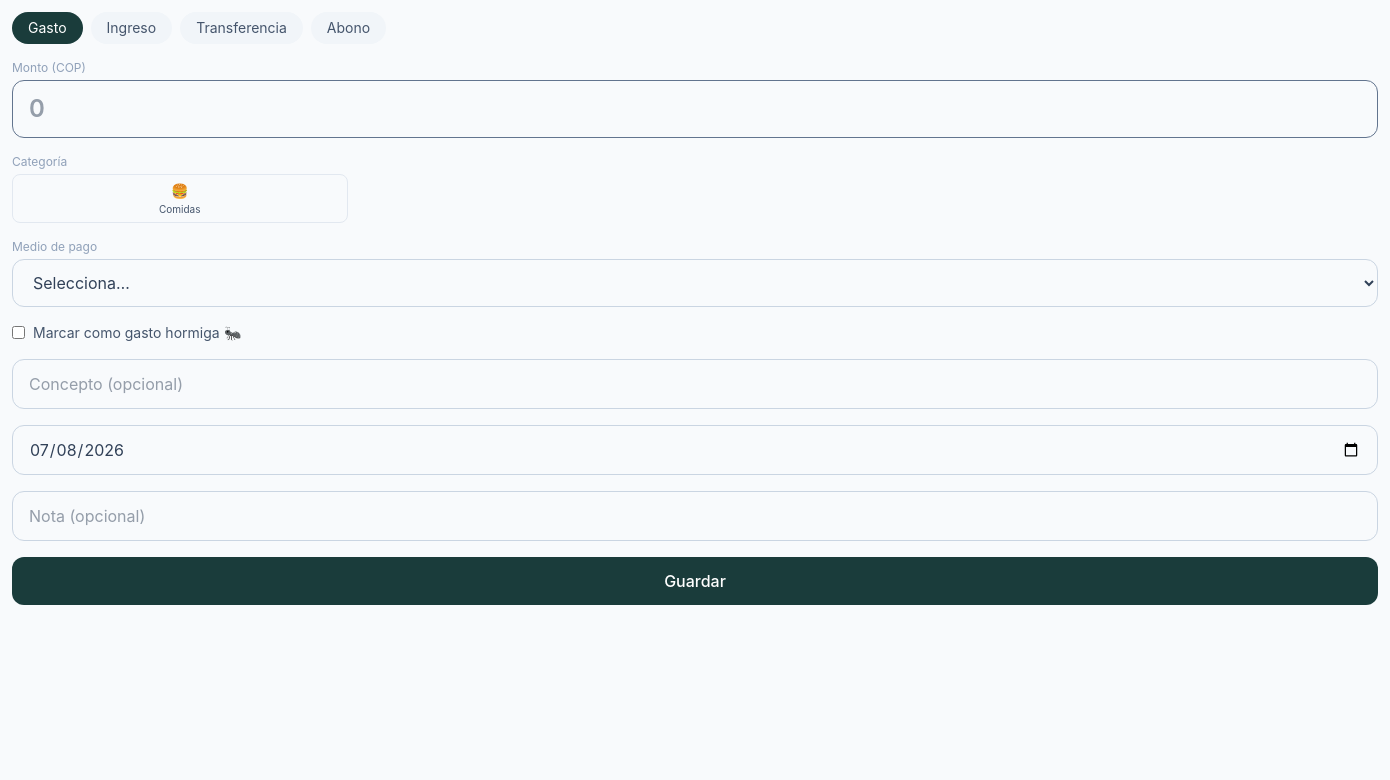
TransactionForm › rechaza un gasto sin categoría con mensaje visible y NO guarda (§11)
The image size is (1390, 780).
Type "10000" into the field with placeholder "0" at [695, 109], box [12, 80, 1378, 138]
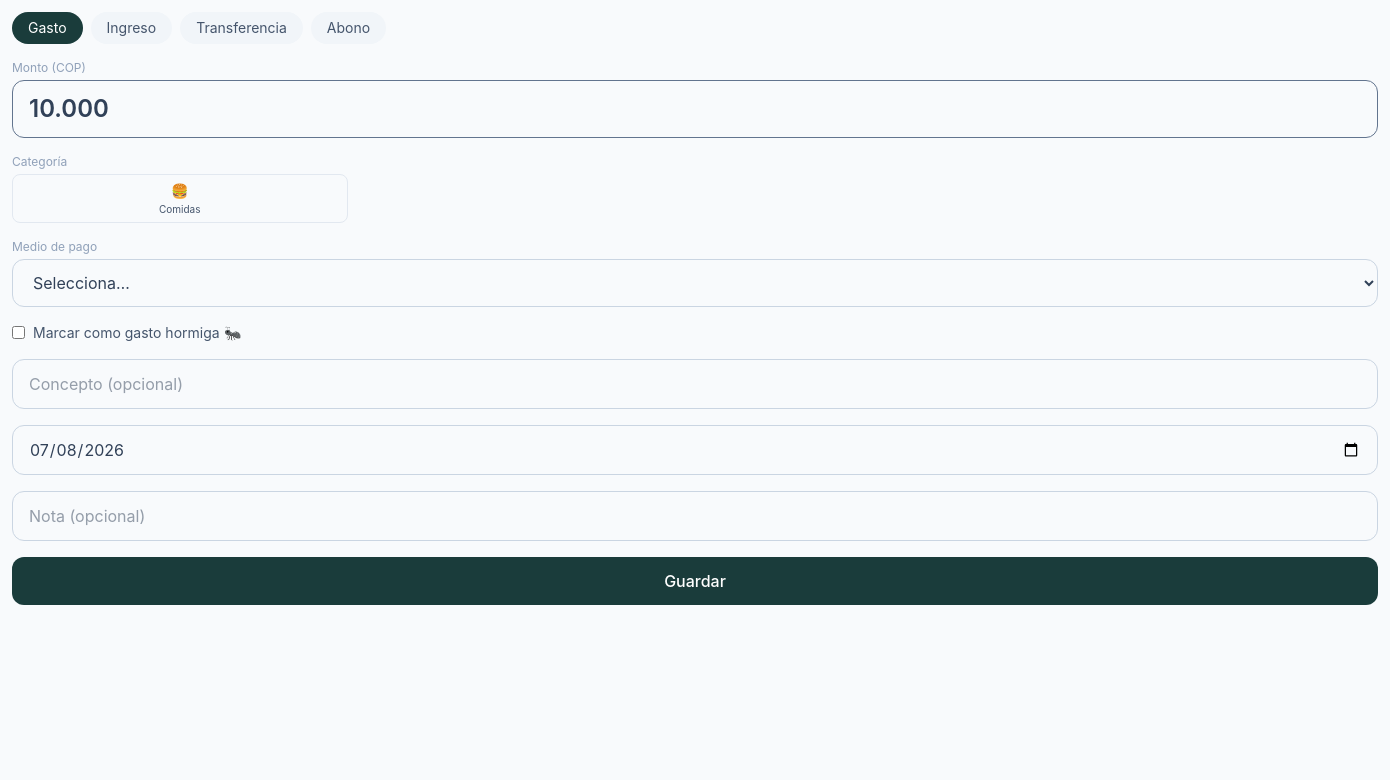
Select "Bancolombia" in the dropdown at [695, 282], box [12, 258, 1378, 306]
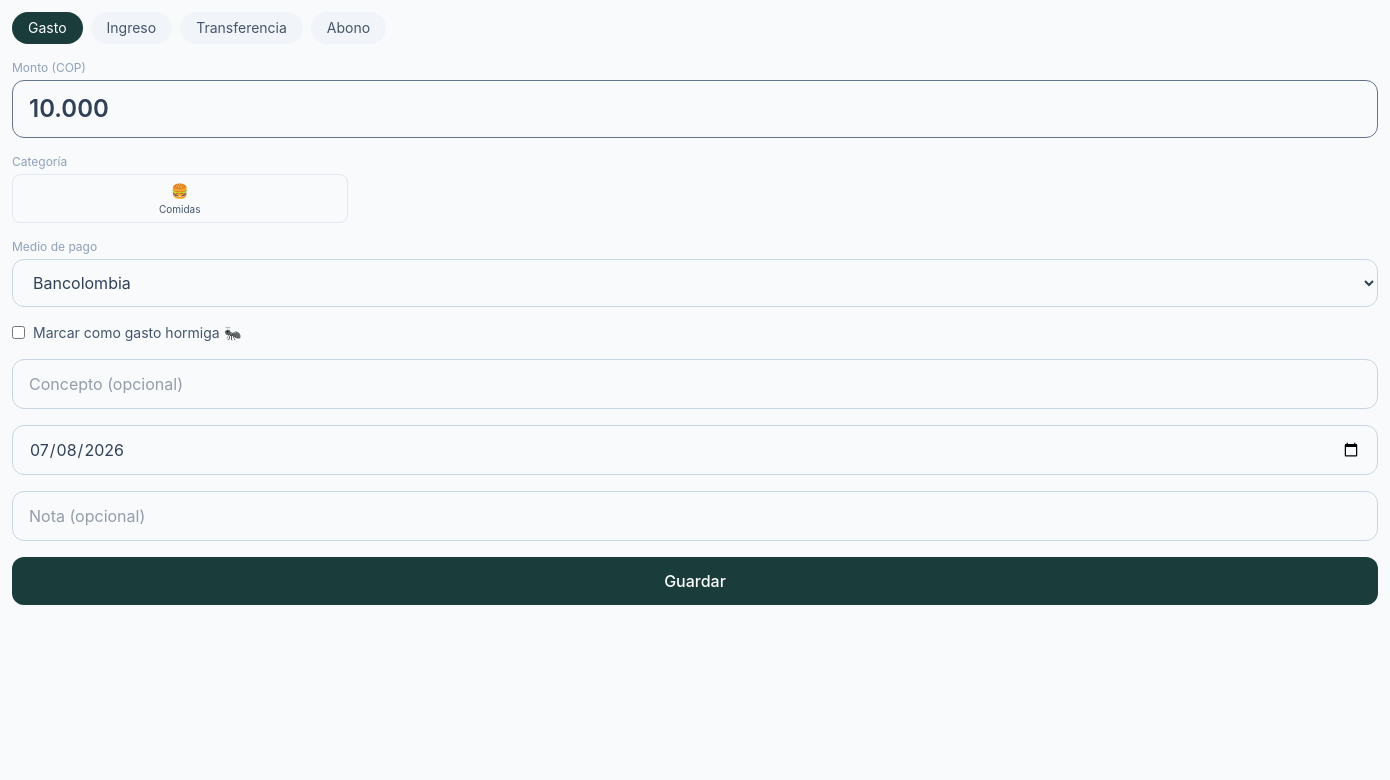
Click the button "Guardar" at [695, 580], box [12, 556, 1378, 604]
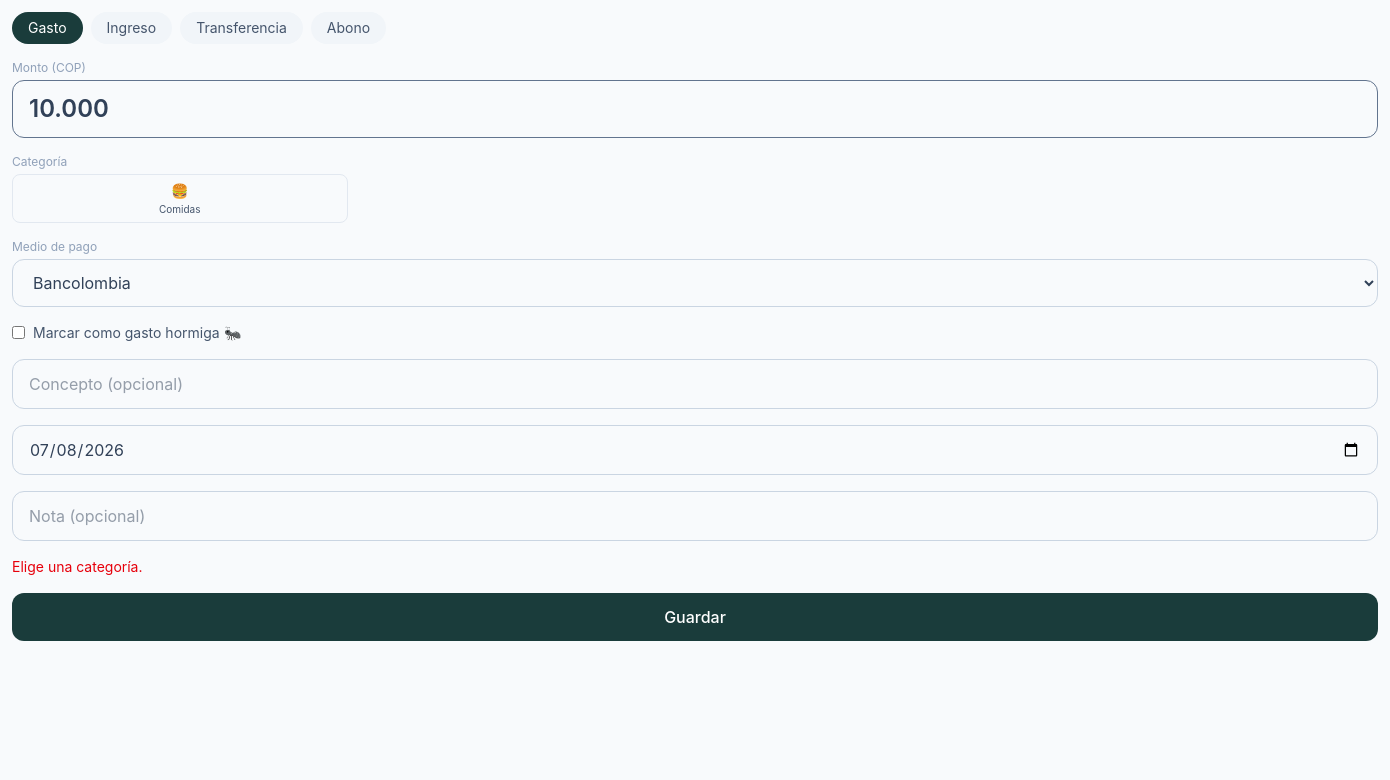
Expected: the text "Elige una categoría." is shown, [12, 558, 142, 574]
